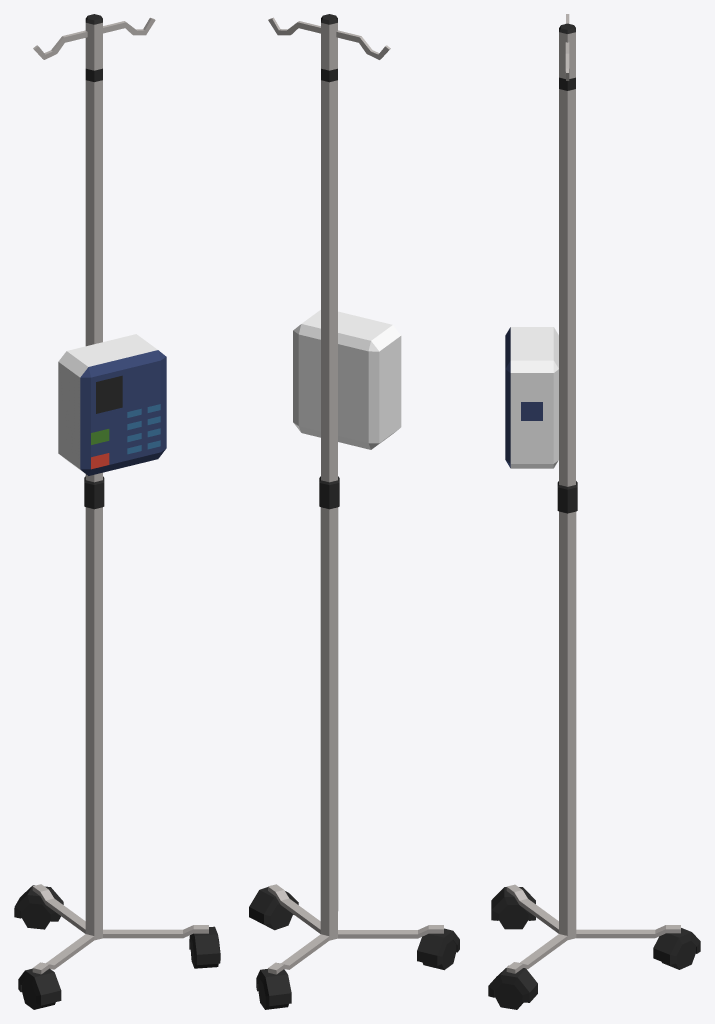
The model's file is apocalypse_iv-pole-monitor.fbx.
3 renders of one model, left to right at view 1: azimuth 30°, elevation 25°; view 2: azimuth 150°, elevation 25°; view 3: azimuth 270°, elevation 25°, orthographic.
Visible parts, largest first — view 1: apocalypse_iv_pole_monitor; view 2: apocalypse_iv_pole_monitor; view 3: apocalypse_iv_pole_monitor.
Boxes of the visible parts, left/top/right/bottom form: apocalypse_iv_pole_monitor: left=14, top=14, right=220, bottom=1009; apocalypse_iv_pole_monitor: left=249, top=14, right=459, bottom=1009; apocalypse_iv_pole_monitor: left=488, top=14, right=700, bottom=1009.
Size of the model in its own units: 42.59 by 200 by 41.12.
